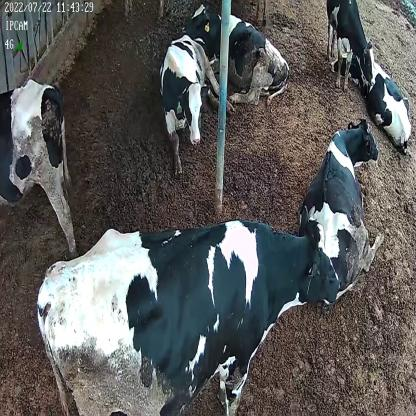cow: (35, 214, 340, 416), (297, 114, 385, 300), (158, 30, 236, 173), (188, 1, 290, 108), (367, 39, 412, 155), (325, 0, 374, 92)
